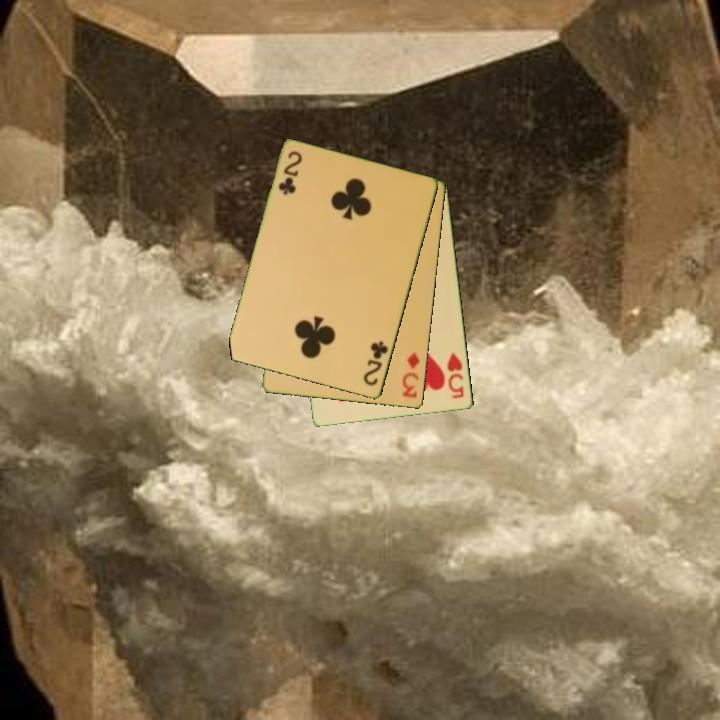2c: (360, 338, 391, 389), (275, 148, 305, 198)
3d: (399, 349, 423, 401)
5h: (444, 349, 467, 402)
